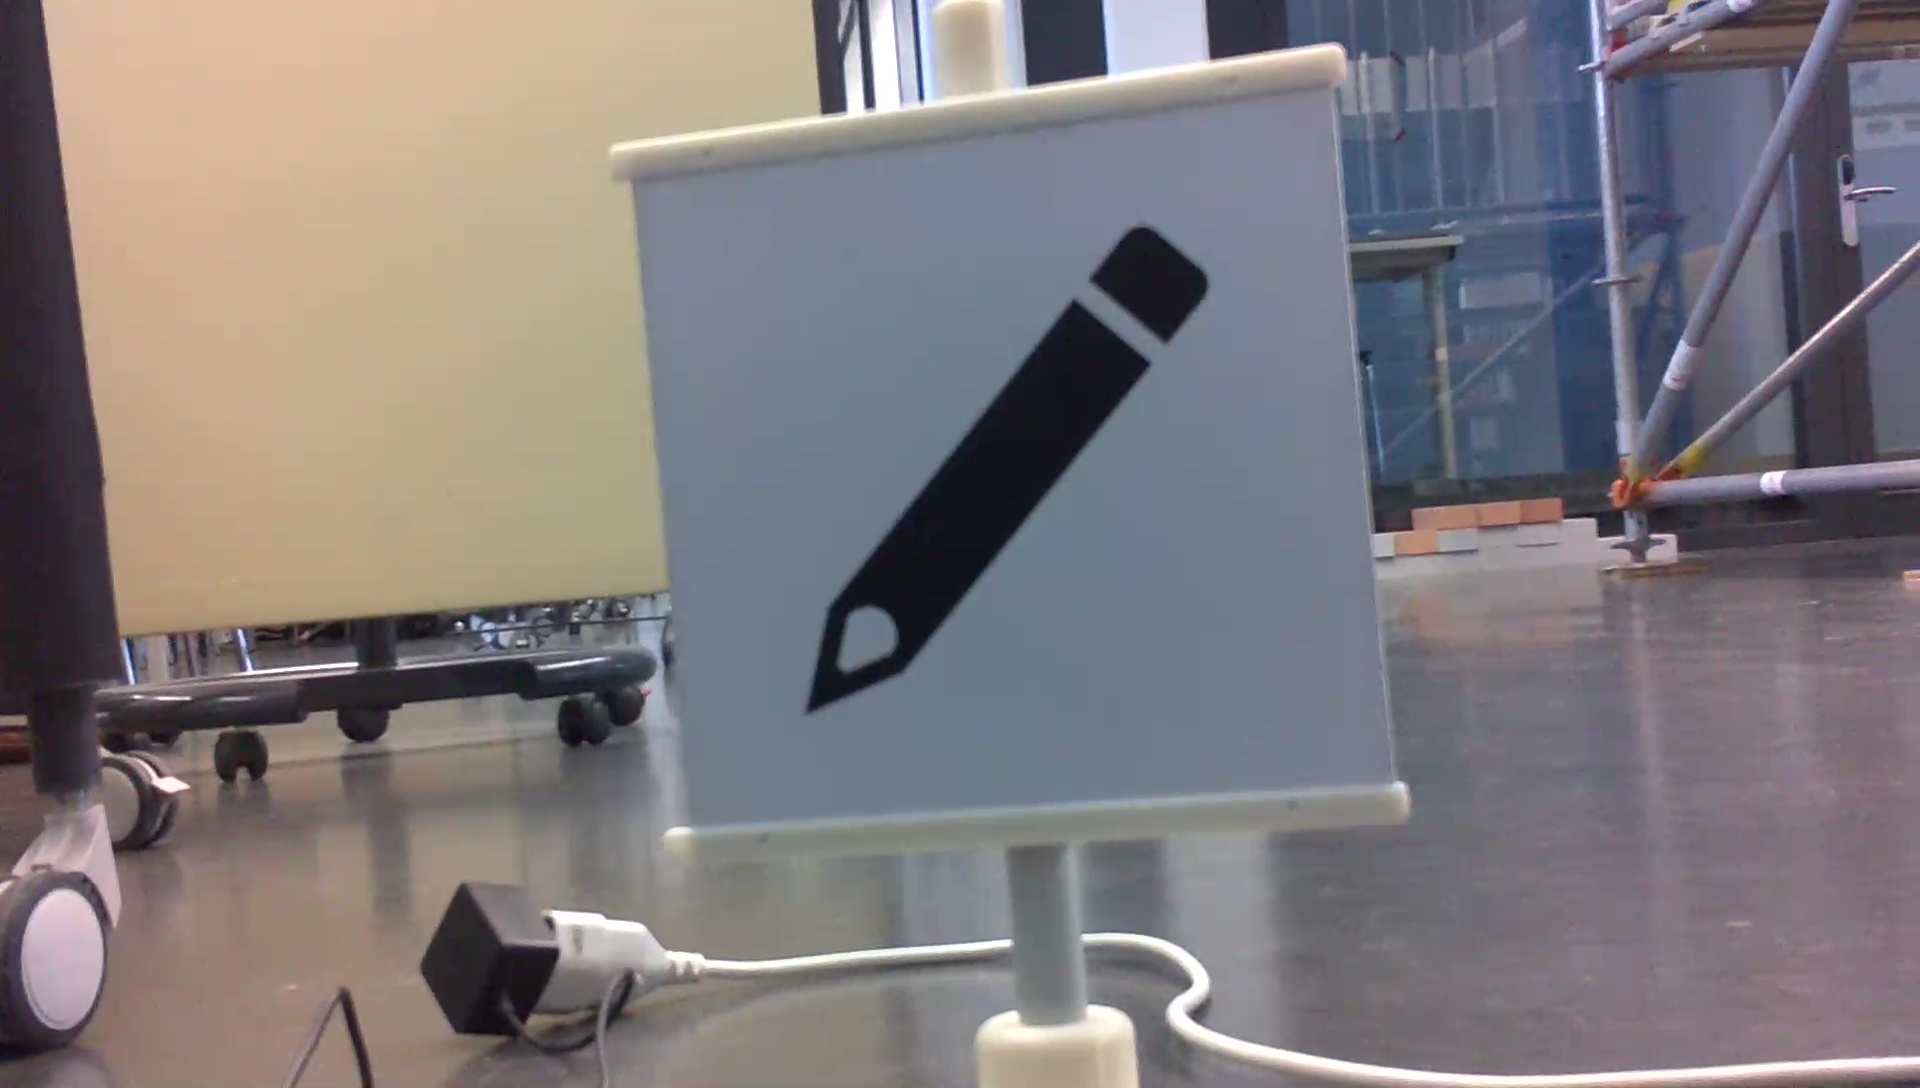pencil: (793, 212, 1226, 728)
